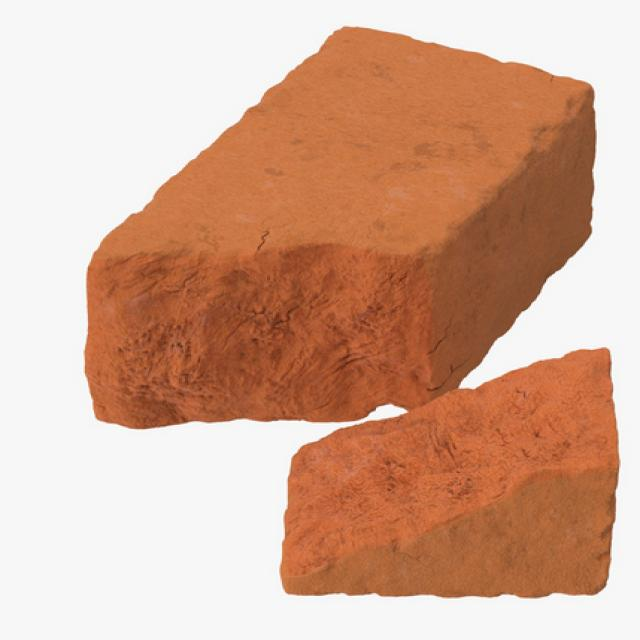bricks_ruin: (85, 21, 597, 427), (277, 347, 619, 600)
